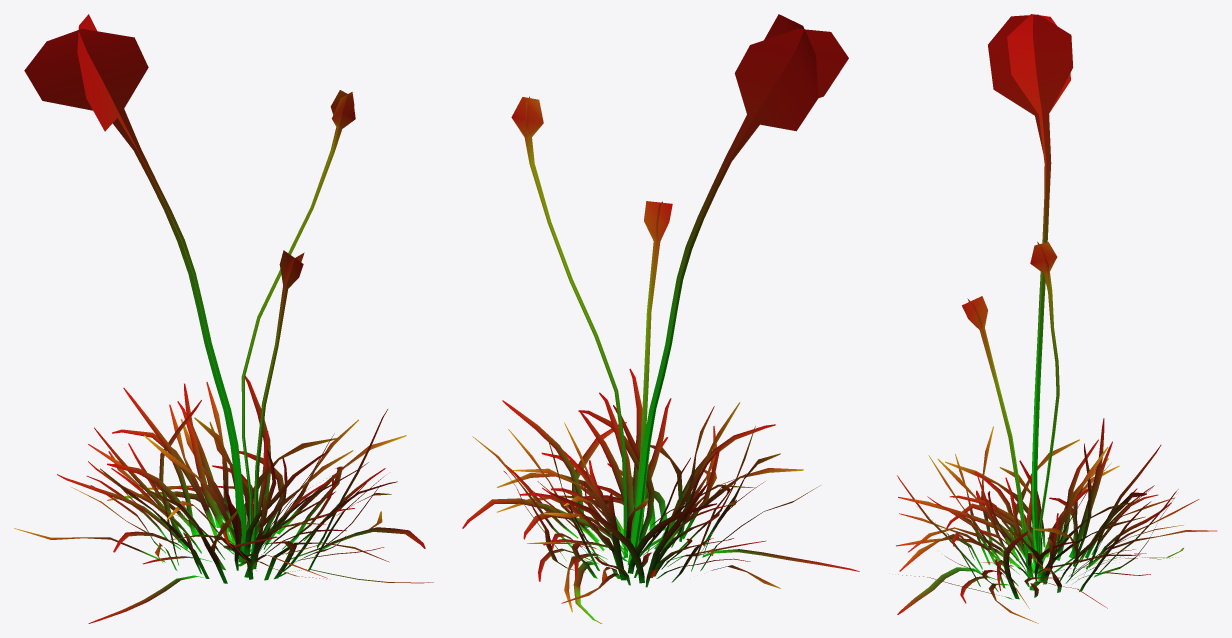
The model's file is Var7_LOD1.fbx.
The picture shows the model from 3 angles, left to right: view 1: azimuth 30°, elevation 25°; view 2: azimuth 150°, elevation 25°; view 3: azimuth 270°, elevation 25°; orthographic projection. The views are drawn at different scales.
Visible parts, largest first — view 1: _upo1_Var7_LOD1; view 2: _upo1_Var7_LOD1; view 3: _upo1_Var7_LOD1.
Part boxes in pixels (x1,y1,x2,y2): _upo1_Var7_LOD1: (14,14,433,623); _upo1_Var7_LOD1: (462,14,859,623); _upo1_Var7_LOD1: (896,14,1216,623).
Bounding box in the file's own units: 10.79 × 16.34 × 9.77.
